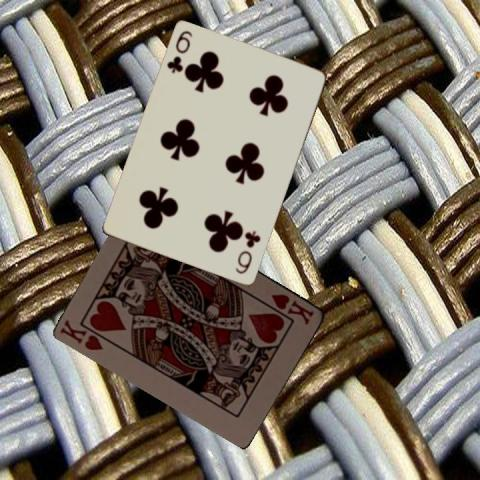6c: (232, 228, 262, 276), (164, 28, 194, 75)
Kh: (58, 316, 106, 352), (268, 291, 316, 326)
